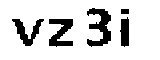3: (84, 5, 111, 49)
i: (117, 6, 136, 48)
v: (10, 14, 43, 49)
z: (47, 17, 78, 50)
